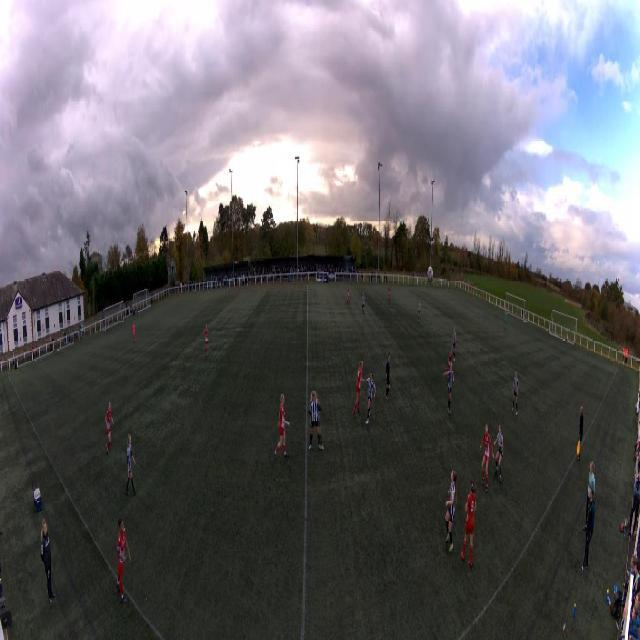ball: (427, 266, 433, 283)
player: (461, 481, 478, 570), (479, 422, 495, 496), (274, 393, 291, 461), (444, 467, 457, 554), (307, 390, 325, 452), (125, 432, 137, 499), (493, 425, 505, 482), (442, 363, 455, 415), (353, 363, 365, 417), (365, 371, 377, 423), (105, 402, 114, 451), (384, 350, 391, 402), (512, 370, 519, 415), (445, 348, 453, 372), (452, 325, 456, 362), (204, 323, 208, 358), (361, 294, 365, 316), (132, 322, 136, 343), (346, 286, 350, 305), (418, 298, 421, 323), (505, 310, 508, 330), (388, 286, 391, 304)
